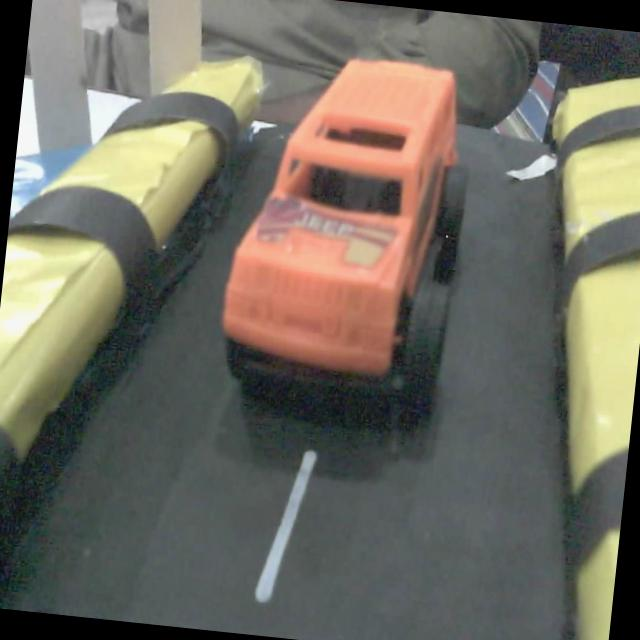OneCar: (221, 57, 470, 421)
